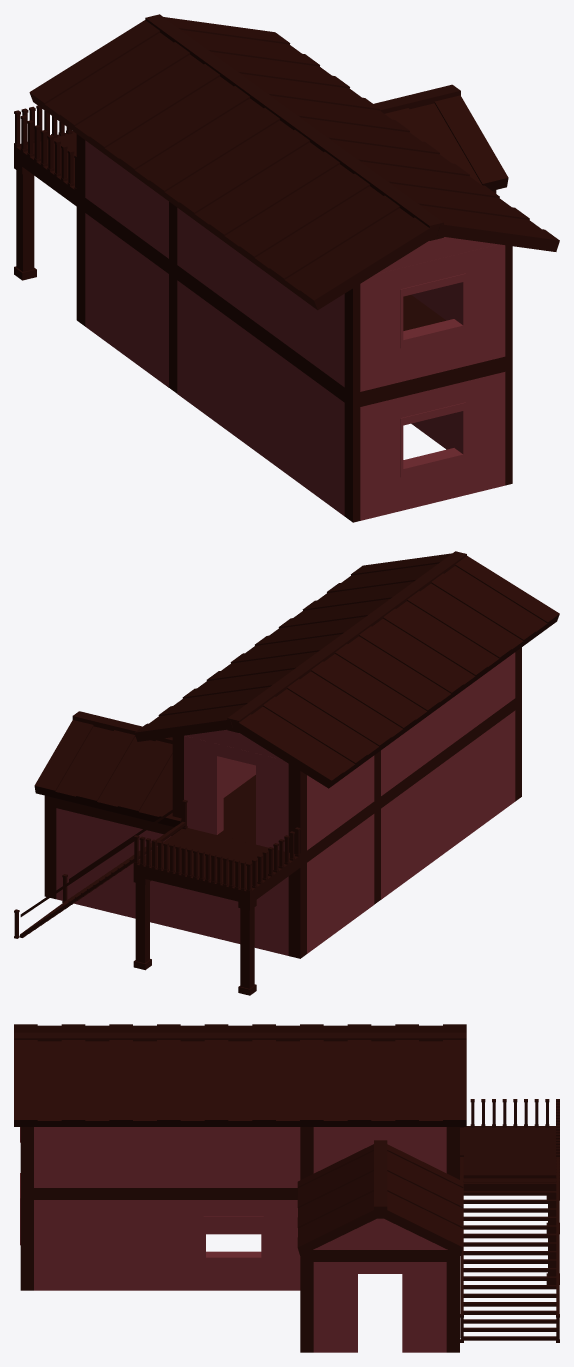
Rendered from PlayerHouseF.fbx.
3 renders of one model, top to bottom at view 1: azimuth 30°, elevation 25°; view 2: azimuth 150°, elevation 25°; view 3: azimuth 270°, elevation 25°, orthographic. The views are drawn at different scales.
Visible parts, largest first — view 1: TelhadoSuperior.002; view 2: TelhadoSuperior.002; view 3: TelhadoSuperior.002.
Part boxes in pixels (x1,y1,x2,y2): TelhadoSuperior.002: (14, 14, 559, 522); TelhadoSuperior.002: (14, 551, 559, 995); TelhadoSuperior.002: (14, 1024, 559, 1352).
Size of the model in its own units: 1029 by 743 by 1640.
